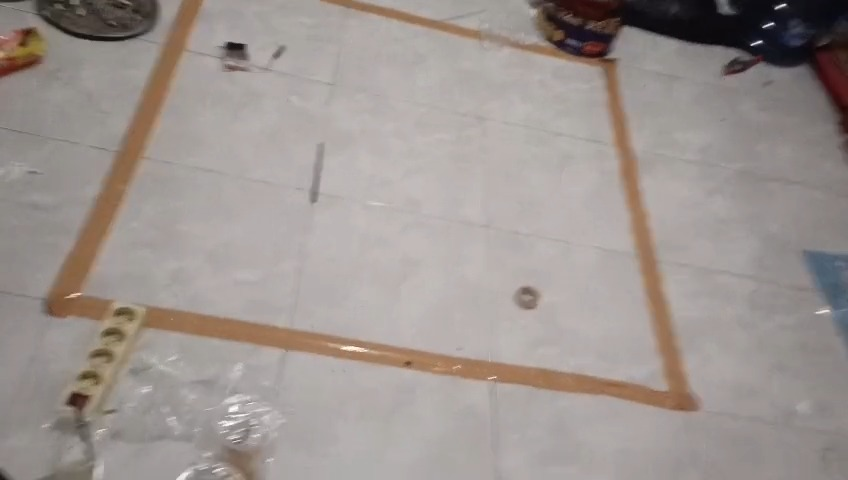floor marking: (142, 42, 698, 410), (46, 0, 202, 319), (326, 0, 481, 37)
